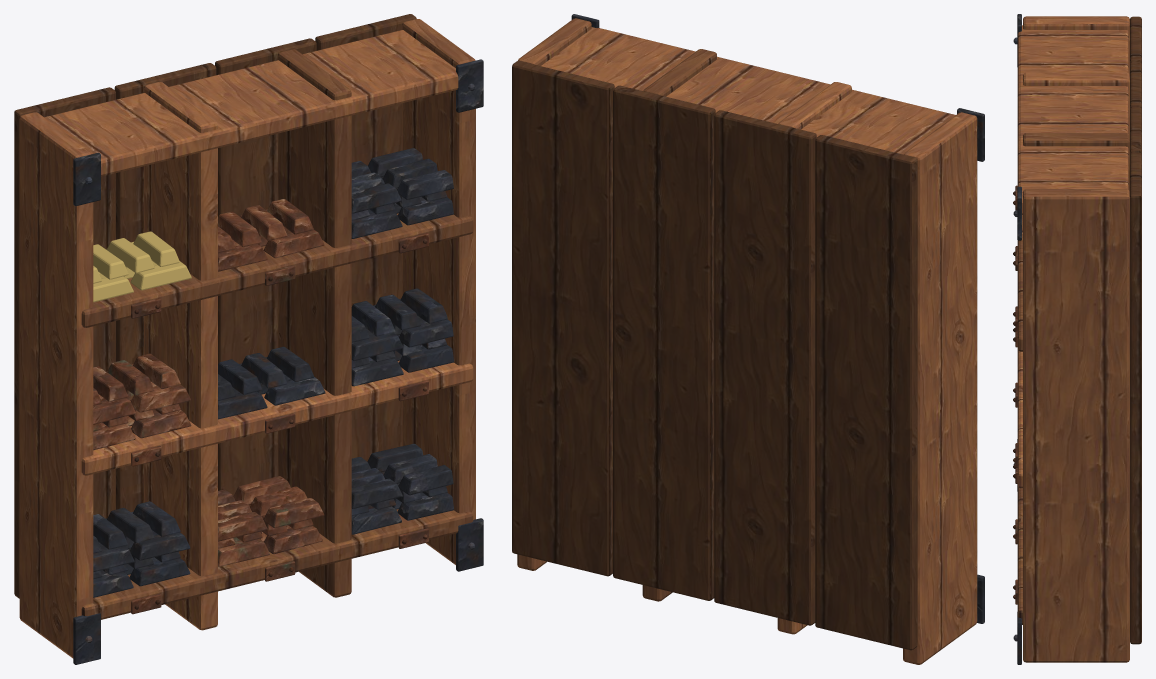
File: ef_ingot_wall.glb
3 views of the same model, side by side, from view 1: azimuth 30°, elevation 25°; view 2: azimuth 150°, elevation 25°; view 3: azimuth 270°, elevation 25° (orthographic). The views are drawn at different scales.
Parts seen in each view (by area): view 1: model; view 2: model; view 3: model.
Part boxes in pixels (x1,y1,x2,y2): model: (14, 14, 483, 664); model: (512, 14, 984, 664); model: (1013, 14, 1141, 664).
Size of the model in its own units: 1.1 by 1.3 by 0.3247.
Materials: 9 (8 with a texture image).
